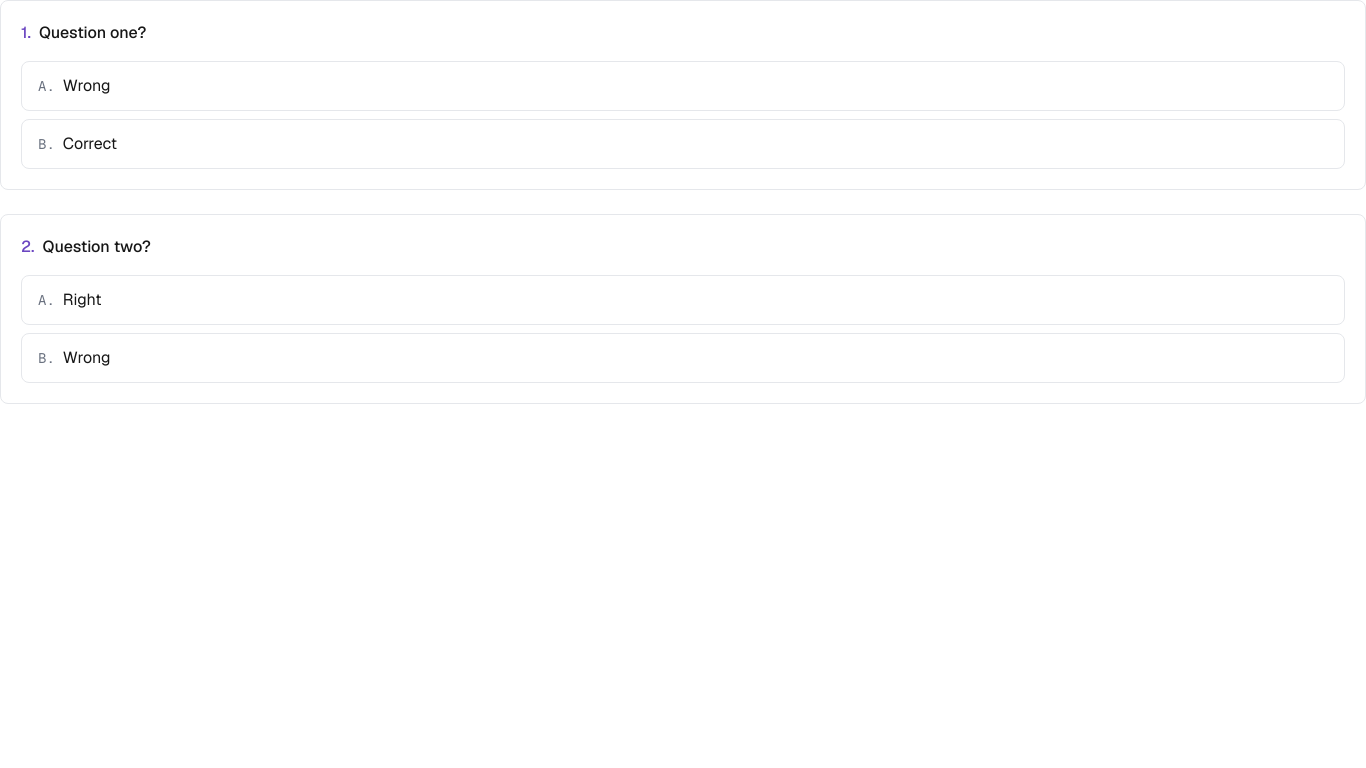
Test case: Quiz › shows perfect score when all correct
Click the button "B.Correct": point(90, 144) [21,119,1345,169]
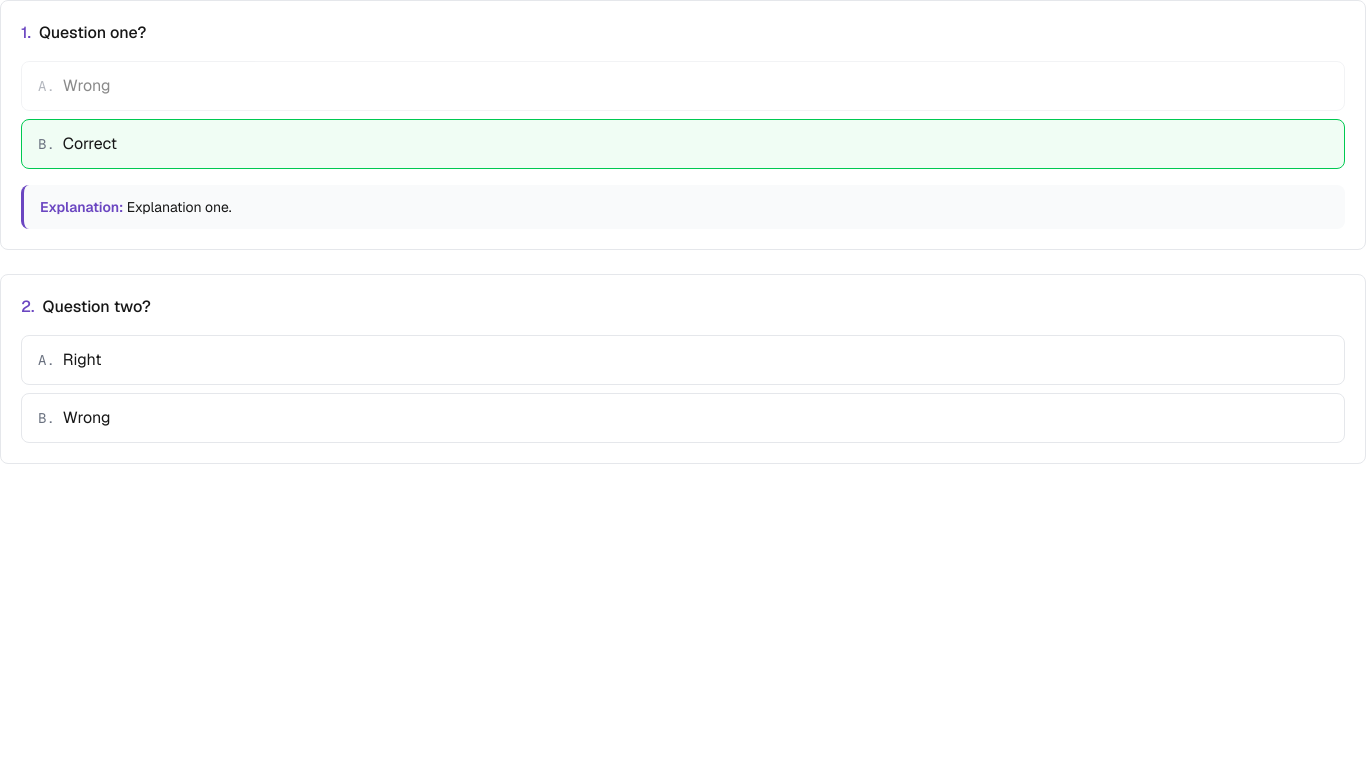
Click the button "A.Right": point(82, 360) [21,335,1345,385]
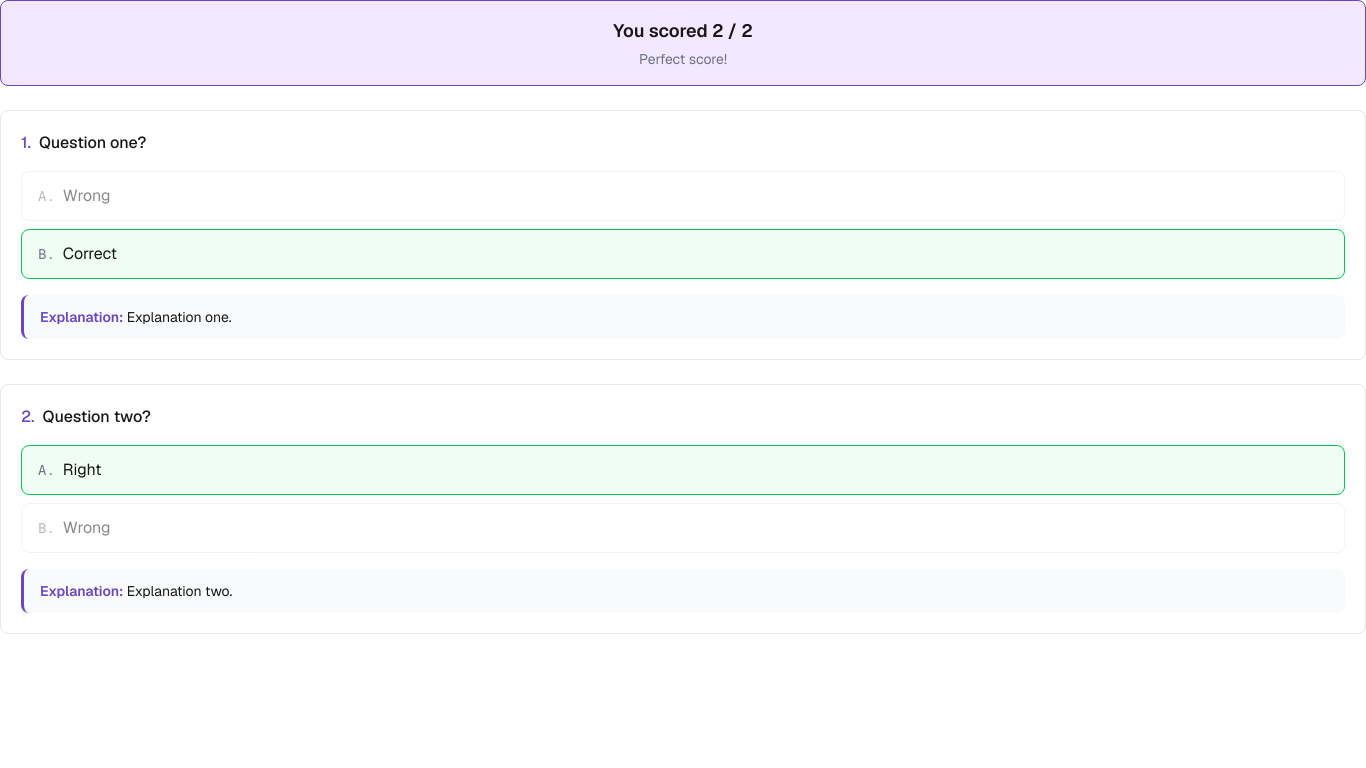
expect the text "You scored 2 / 2" is shown: met, box [613,19,753,42]
expect the text "Perfect score!" is shown: met, box [639,50,727,68]
